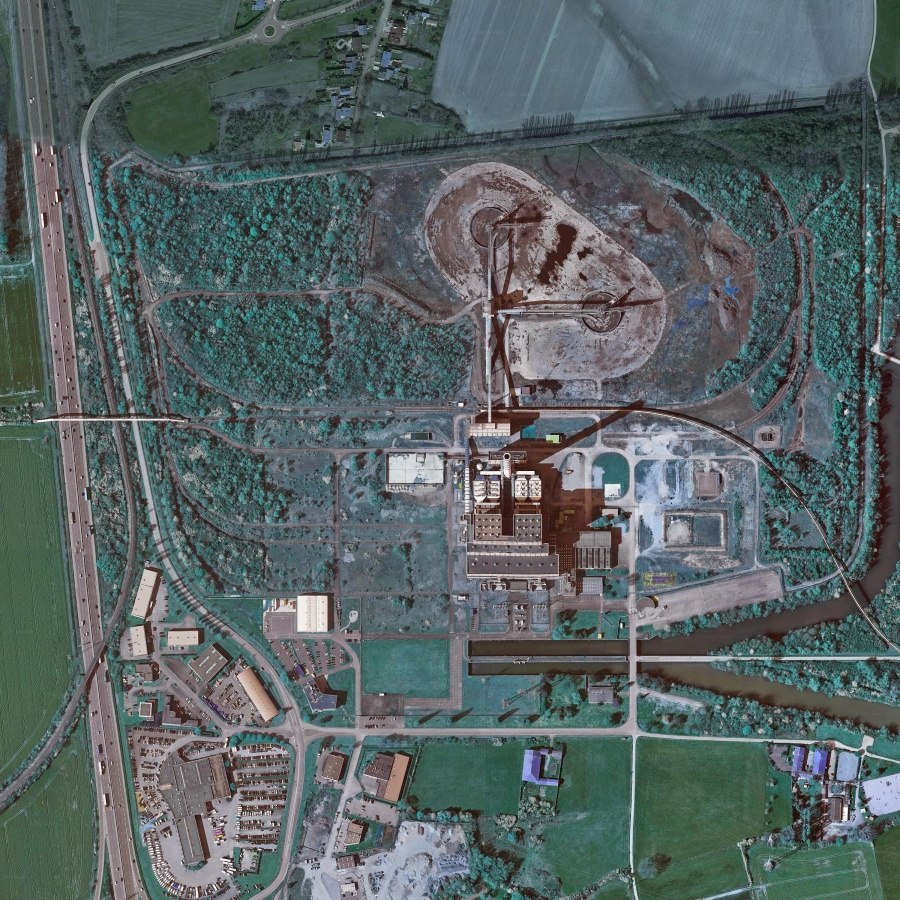PowerPlant: (392, 162, 665, 588)
